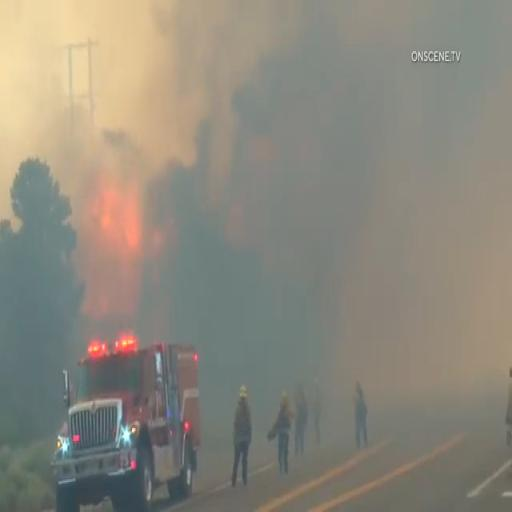smoke: (219, 26, 382, 288)
